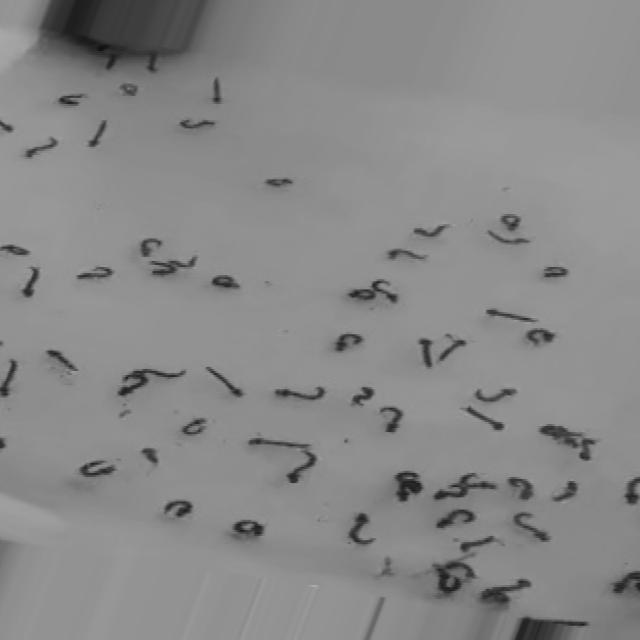larvas: (207, 364, 241, 398), (276, 382, 321, 407), (248, 435, 310, 453), (466, 405, 503, 432), (130, 365, 186, 381), (516, 514, 548, 541), (439, 507, 477, 529), (487, 575, 531, 594), (48, 345, 76, 374), (289, 451, 314, 483), (352, 508, 373, 546), (509, 468, 532, 502), (432, 478, 464, 502), (477, 383, 516, 402), (81, 462, 116, 482), (434, 564, 458, 592), (617, 563, 638, 594), (440, 335, 465, 360), (489, 231, 529, 246), (463, 473, 494, 492), (89, 115, 106, 149), (400, 465, 423, 490), (182, 420, 208, 442), (382, 399, 401, 429), (489, 310, 536, 322), (390, 246, 425, 262), (374, 279, 397, 303), (336, 334, 361, 356), (28, 136, 55, 156), (121, 375, 143, 399), (415, 222, 447, 238), (418, 337, 434, 369), (526, 328, 555, 345), (163, 502, 192, 519), (23, 262, 37, 297), (60, 90, 84, 110), (3, 358, 15, 398), (80, 264, 110, 280), (461, 538, 501, 550), (147, 261, 175, 278), (234, 520, 262, 537), (557, 478, 576, 502), (580, 436, 596, 464), (626, 471, 639, 505), (485, 588, 508, 606), (540, 424, 565, 440), (451, 558, 473, 576), (172, 253, 195, 270), (354, 385, 371, 408), (182, 118, 211, 131), (101, 46, 116, 71), (351, 285, 373, 302), (546, 262, 566, 280), (503, 210, 520, 231), (3, 241, 28, 255), (213, 273, 236, 288), (268, 178, 292, 191), (143, 238, 160, 256), (563, 430, 579, 447), (143, 447, 157, 465), (213, 76, 220, 105), (148, 52, 157, 74), (2, 118, 14, 134), (122, 84, 138, 95), (395, 490, 409, 501)
